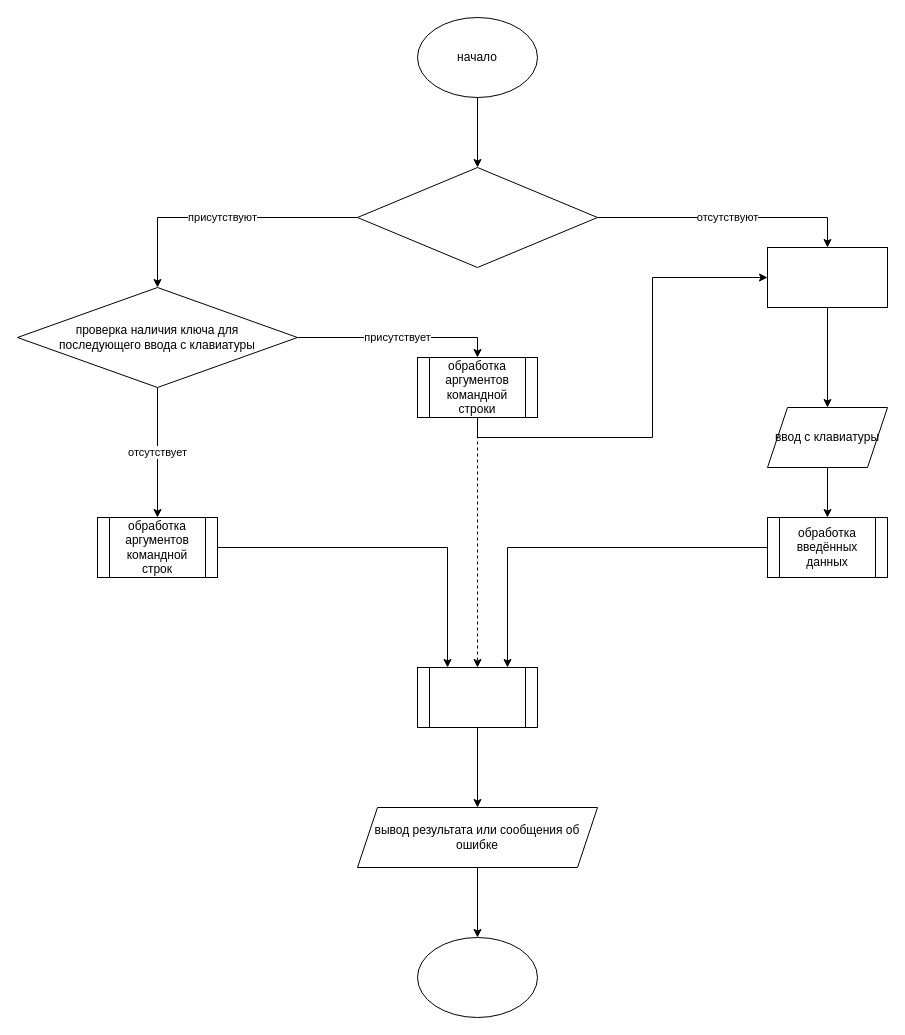
Image size: 905x1035. Some labels were removed from this diagram. Here are the shapes that lost their labels. From the top down, the centre of each, then its label:
At point 477,217: "проверка на наличие аргументов командной строки".
At point 827,277: "переход в режим ввода с клавиатуры".
At point 477,697: "вычисление результата".
At point 477,977: "конец".
